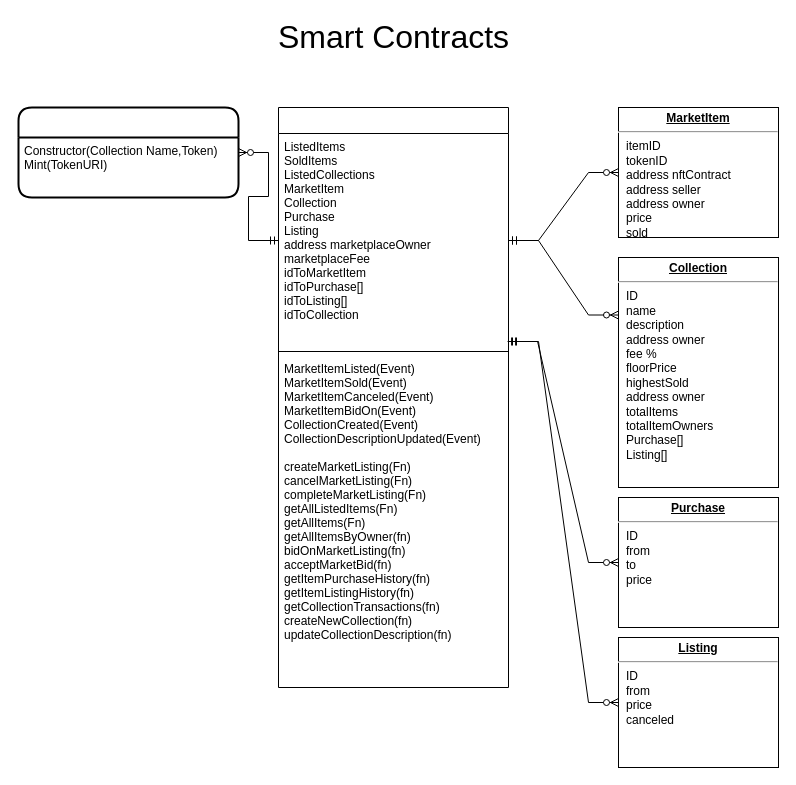
Image size: 796x785. Some labels were removed from this diagram. The box of each missing label's shape, as (x1, y1, x2, y2) in pixels:
NFT: (17, 106, 239, 198)
NFT Marketplace: (278, 106, 508, 688)
